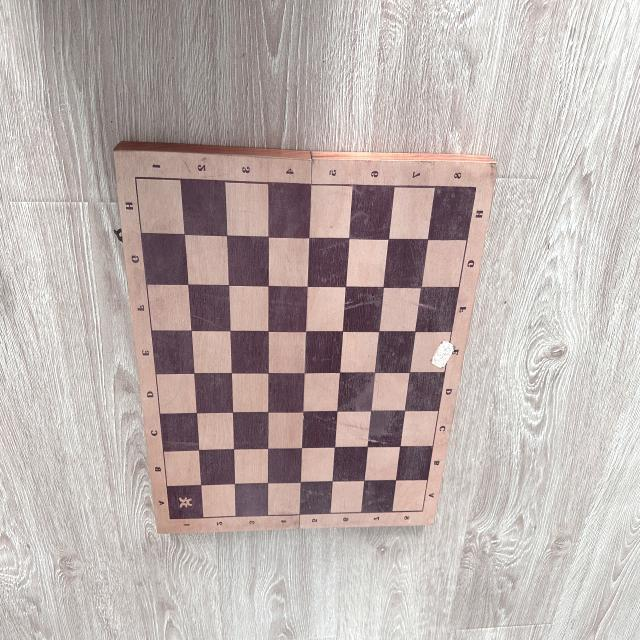chess-table-corners: (132, 172, 140, 184), (165, 514, 174, 524), (472, 183, 480, 193), (419, 507, 426, 515)
